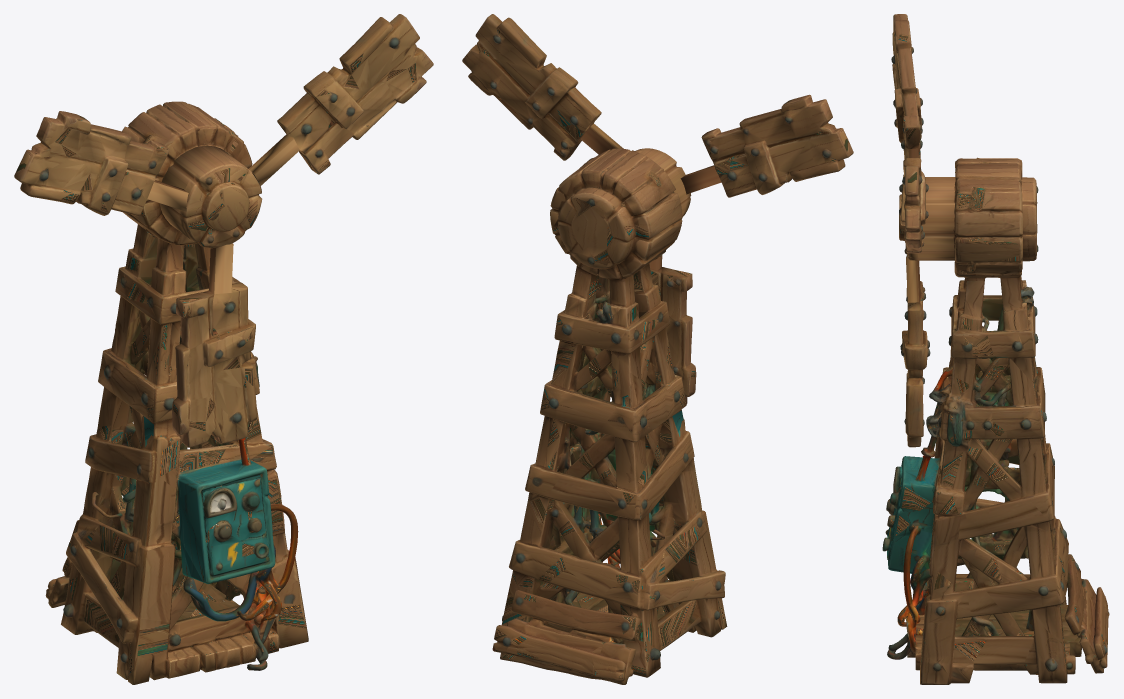
File: windmill2.glb
3 views of the same model, side by side, from view 1: azimuth 30°, elevation 25°; view 2: azimuth 150°, elevation 25°; view 3: azimuth 270°, elevation 25° (orthographic). The views are drawn at different scales.
Visible parts, largest first — view 1: Tower, Blades; view 2: Tower, Blades; view 3: Tower, Blades.
Part boxes in pixels (x1,y1,x2,y2): Tower: [45, 101, 308, 684]; Blades: [14, 14, 433, 447]; Tower: [492, 148, 727, 684]; Blades: [462, 14, 853, 404]; Tower: [882, 157, 1109, 684]; Blades: [891, 14, 955, 447].
Bounding box in the file's own units: 1.26 × 1.74 × 0.6415.
1 material, 1 textured.
